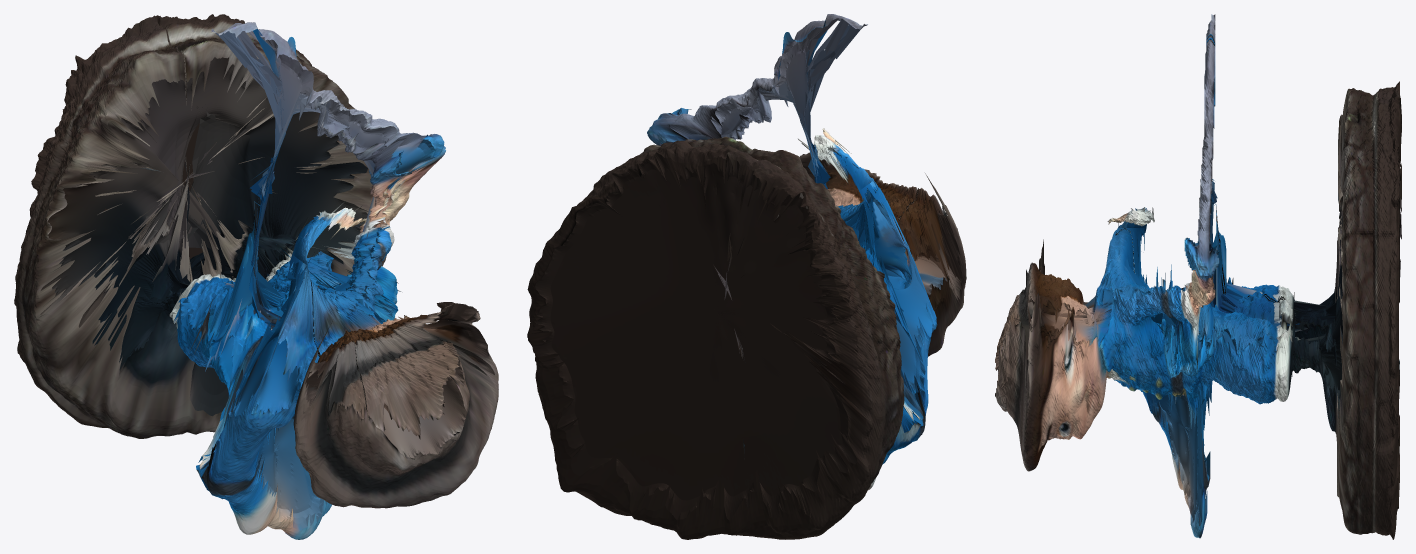
File: mesh_inpaint.glb
The picture shows the model from 3 angles, left to right: view 1: azimuth 30°, elevation 25°; view 2: azimuth 150°, elevation 25°; view 3: azimuth 270°, elevation 25°; orthographic projection. The views are drawn at different scales.
Parts seen in each view (by area): view 1: ipn, fill; view 2: fill, ipn; view 3: ipn, fill.
Boxes of the visible parts, x1=… form: ipn: x1=14, y1=14, x2=498, y2=539; fill: x1=40, y1=29, x2=494, y2=530; fill: x1=532, y1=18, x2=961, y2=520; ipn: x1=527, y1=14, x2=966, y2=539; ipn: x1=995, y1=14, x2=1401, y2=539; fill: x1=995, y1=34, x2=1401, y2=528.
Bounding box in the file's own units: 1.14 × 1.58 × 1.2.
2 materials, 1 textured.
